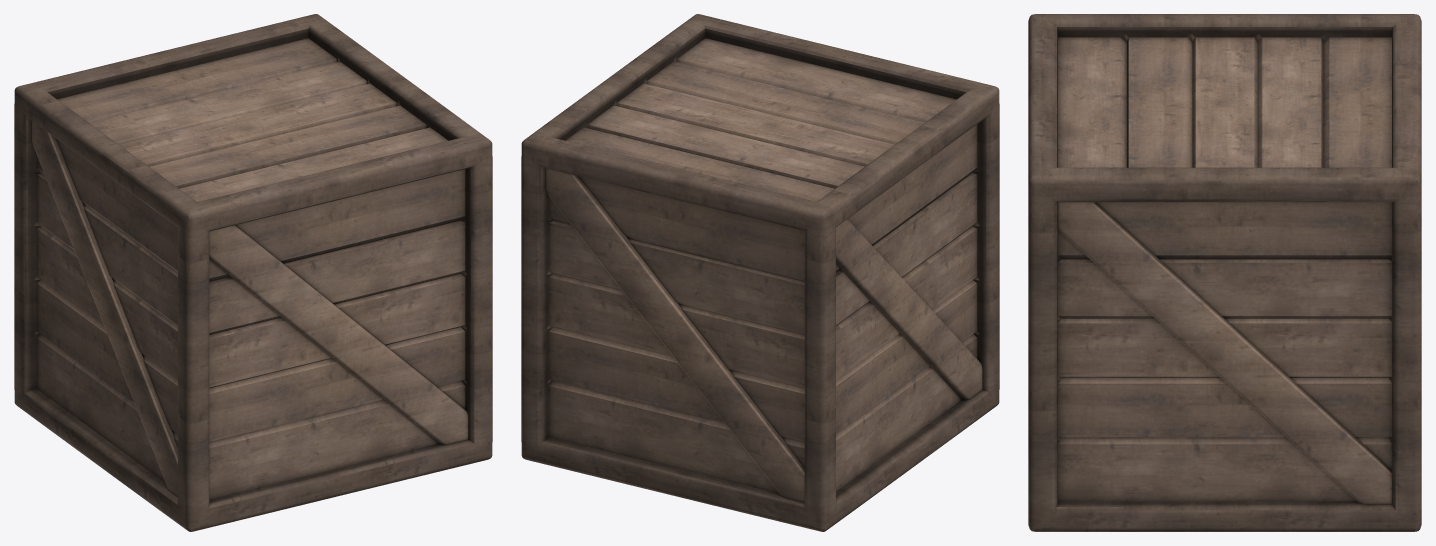
The model's file is crate.obj.
The picture shows the model from 3 angles, left to right: view 1: azimuth 30°, elevation 25°; view 2: azimuth 150°, elevation 25°; view 3: azimuth 270°, elevation 25°; orthographic projection. The views are drawn at different scales.
Parts seen in each view (by area): view 1: Crate_Cube.005; view 2: Crate_Cube.005; view 3: Crate_Cube.005.
Part boxes in pixels (bbox=[...]): Crate_Cube.005: bbox=[14, 14, 492, 531]; Crate_Cube.005: bbox=[521, 14, 999, 531]; Crate_Cube.005: bbox=[1028, 14, 1421, 531].
Size of the model in its own units: 8 by 8 by 8.
